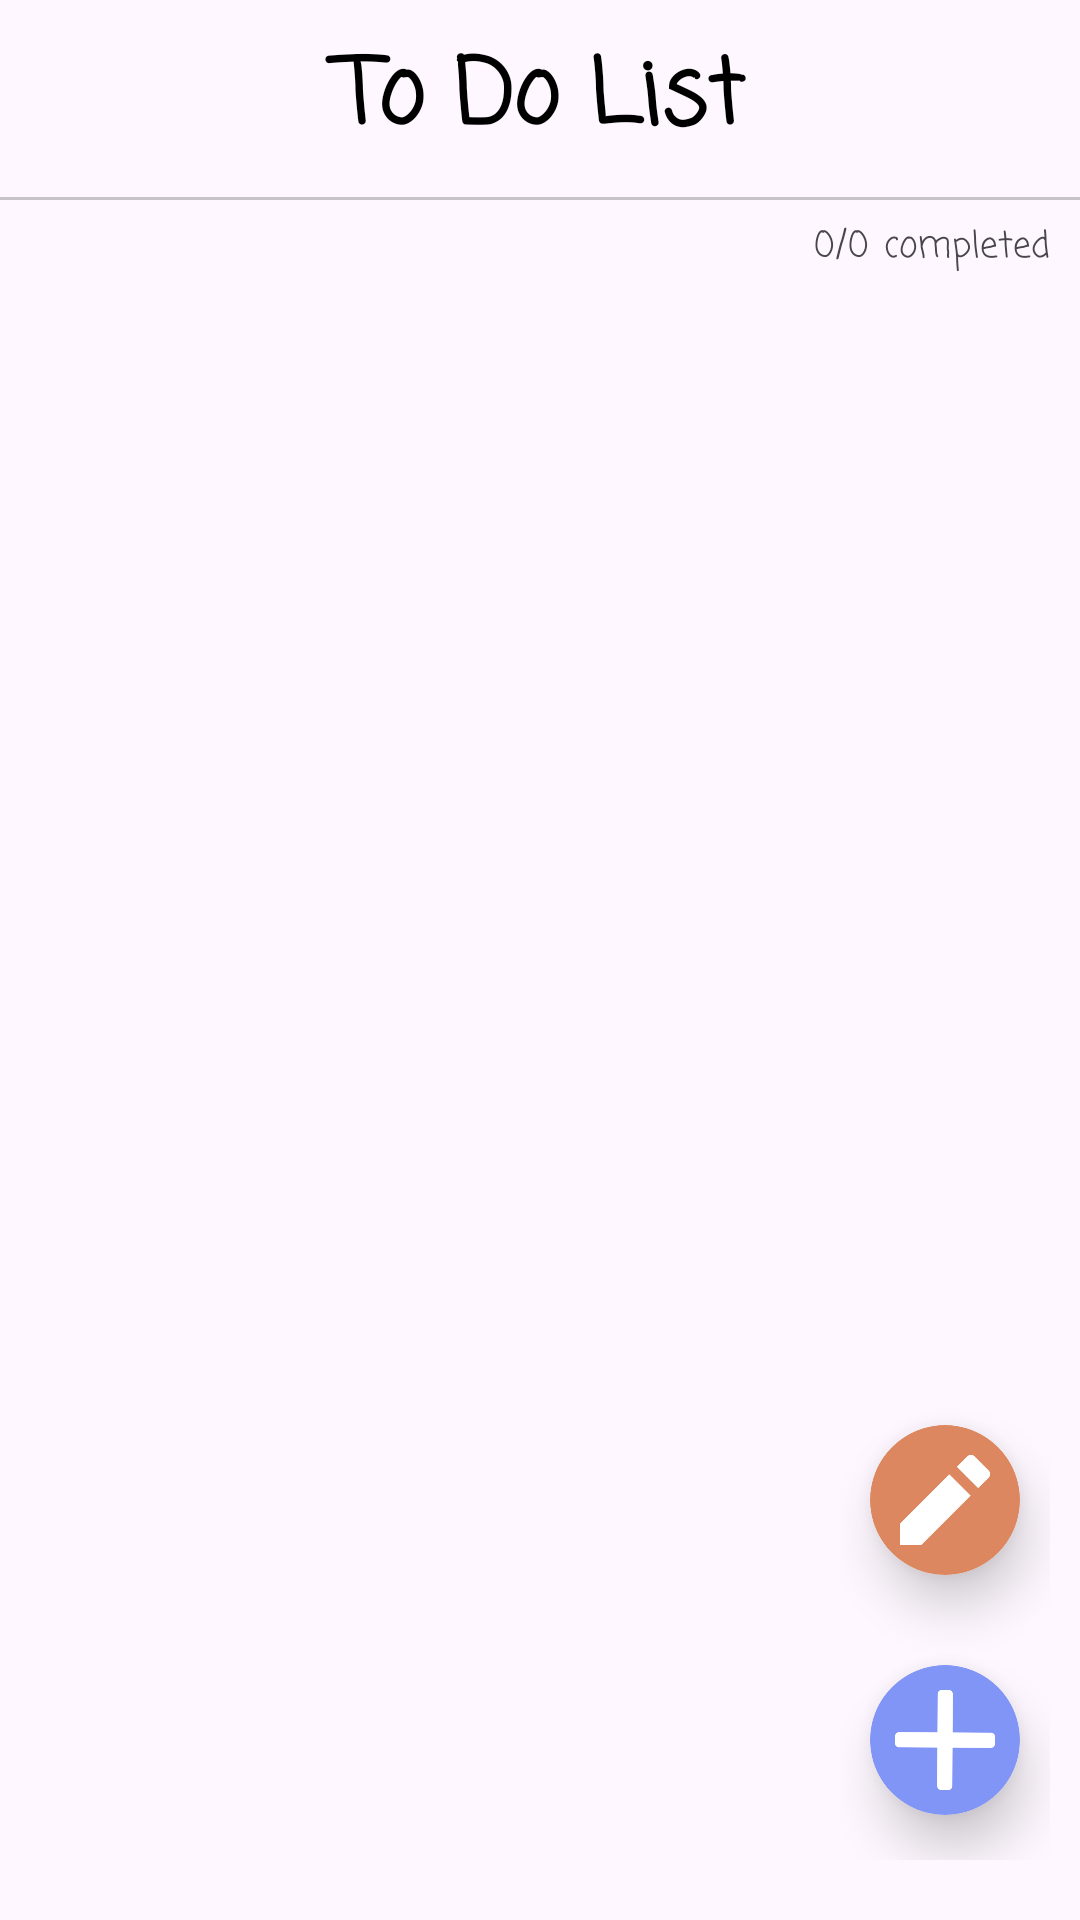

Point at icon controls on the screen. Image size 1080w x 1920h, points as (x,y).
edit: (945,1500)
plus: (945,1740)
